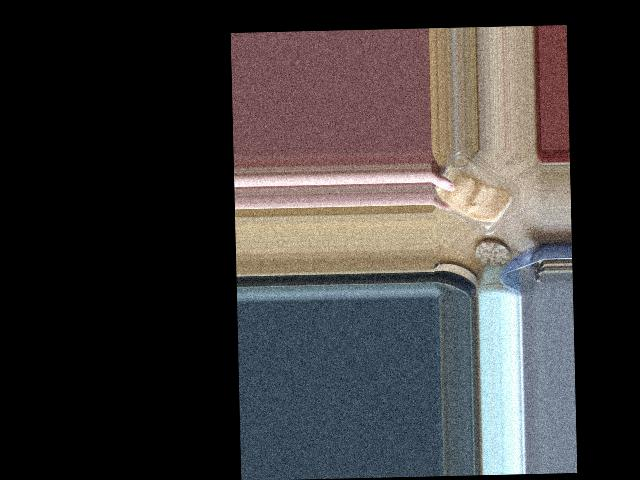cheese: (437, 150, 529, 243)
